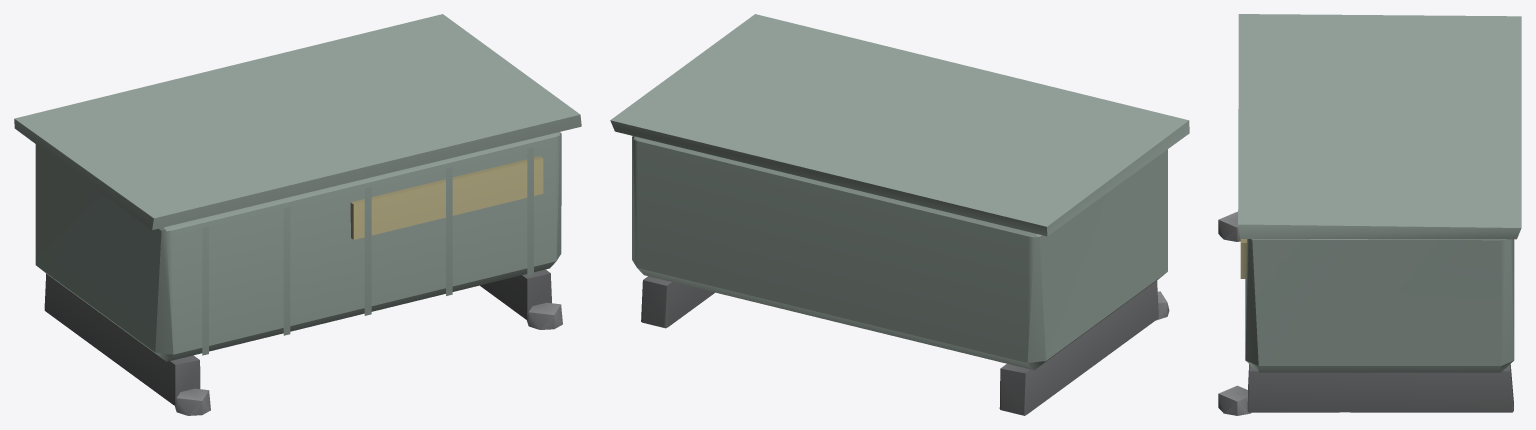
The model's file is dumpster.lod1.glb.
3 renders of one model, left to right at view 1: azimuth 30°, elevation 25°; view 2: azimuth 150°, elevation 25°; view 3: azimuth 270°, elevation 25°, orthographic.
Bounding box in the file's own units: 3.17 × 1.4 × 1.92.
